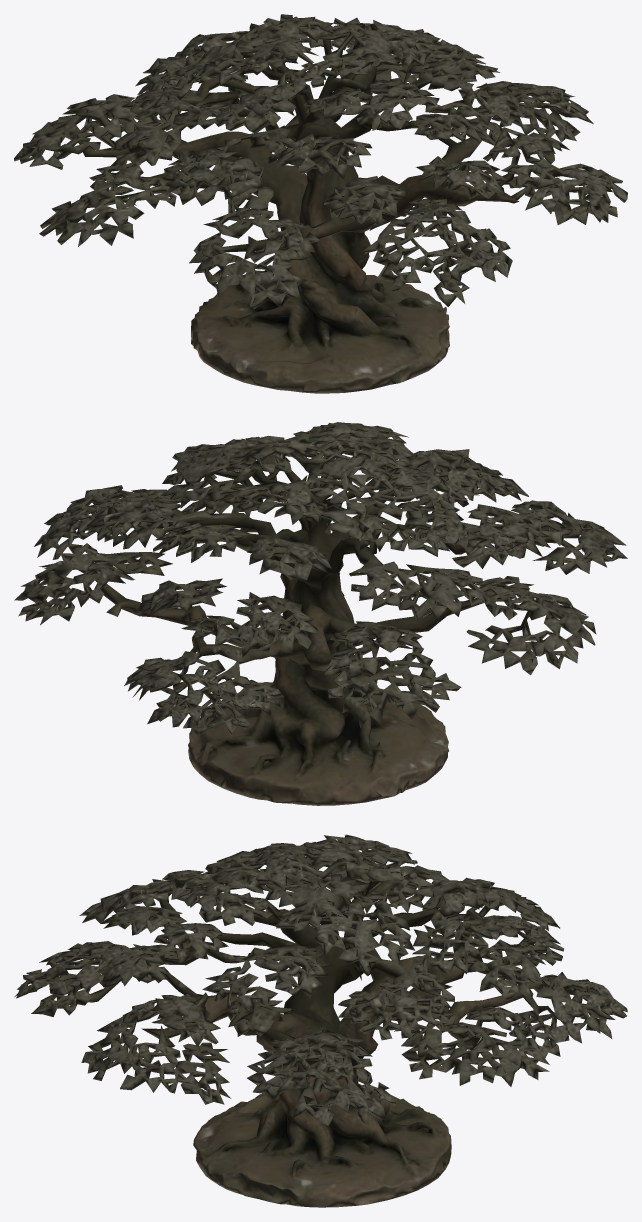
The model's file is bonsai+tree+3d+model.glb.
3 renders of one model, top to bottom at view 1: azimuth 30°, elevation 25°; view 2: azimuth 150°, elevation 25°; view 3: azimuth 270°, elevation 25°, orthographic. The views are drawn at different scales.
Visible parts, largest first — view 1: tripo_node_983409f6-c619-4117-bb17-46d9b0d05514; view 2: tripo_node_983409f6-c619-4117-bb17-46d9b0d05514; view 3: tripo_node_983409f6-c619-4117-bb17-46d9b0d05514.
Boxes of the visible parts, x1=… form: tripo_node_983409f6-c619-4117-bb17-46d9b0d05514: x1=14, y1=14, x2=627, y2=393; tripo_node_983409f6-c619-4117-bb17-46d9b0d05514: x1=14, y1=422, x2=627, y2=805; tripo_node_983409f6-c619-4117-bb17-46d9b0d05514: x1=14, y1=834, x2=627, y2=1207.
Bounding box in the file's own units: 0.9708 × 0.5141 × 0.9825.
Materials: 1 (1 with a texture image).
